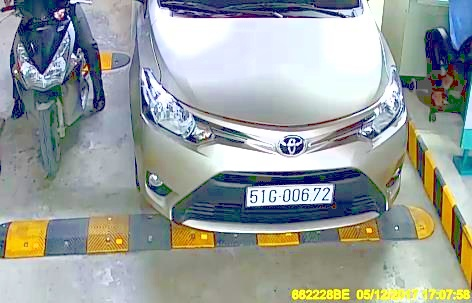plate: (239, 179, 334, 209)
